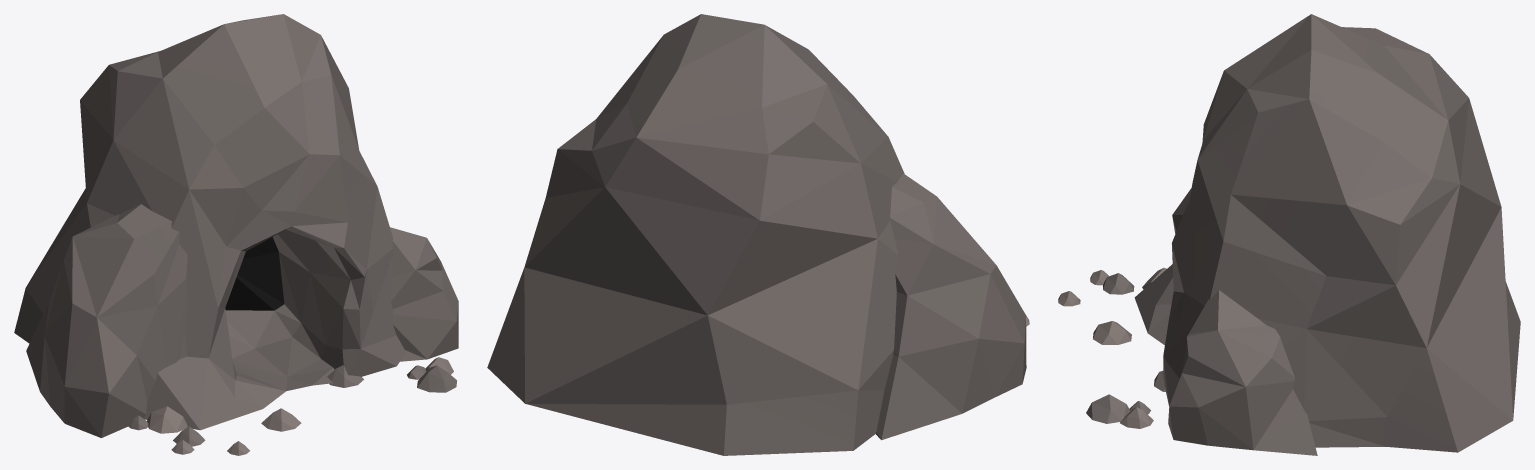
File: cave.fbx
3 renders of one model, left to right at view 1: azimuth 30°, elevation 25°; view 2: azimuth 150°, elevation 25°; view 3: azimuth 270°, elevation 25°, orthographic. The views are drawn at different scales.
Visible parts, largest first — view 1: cave; view 2: cave; view 3: cave.
Part boxes in pixels (x1,y1,x2,y2): cave: [14, 14, 458, 455]; cave: [487, 14, 1029, 455]; cave: [1058, 14, 1520, 455].
Size of what is drawn, in the model's own units: 2.72 by 2.19 by 2.6.
